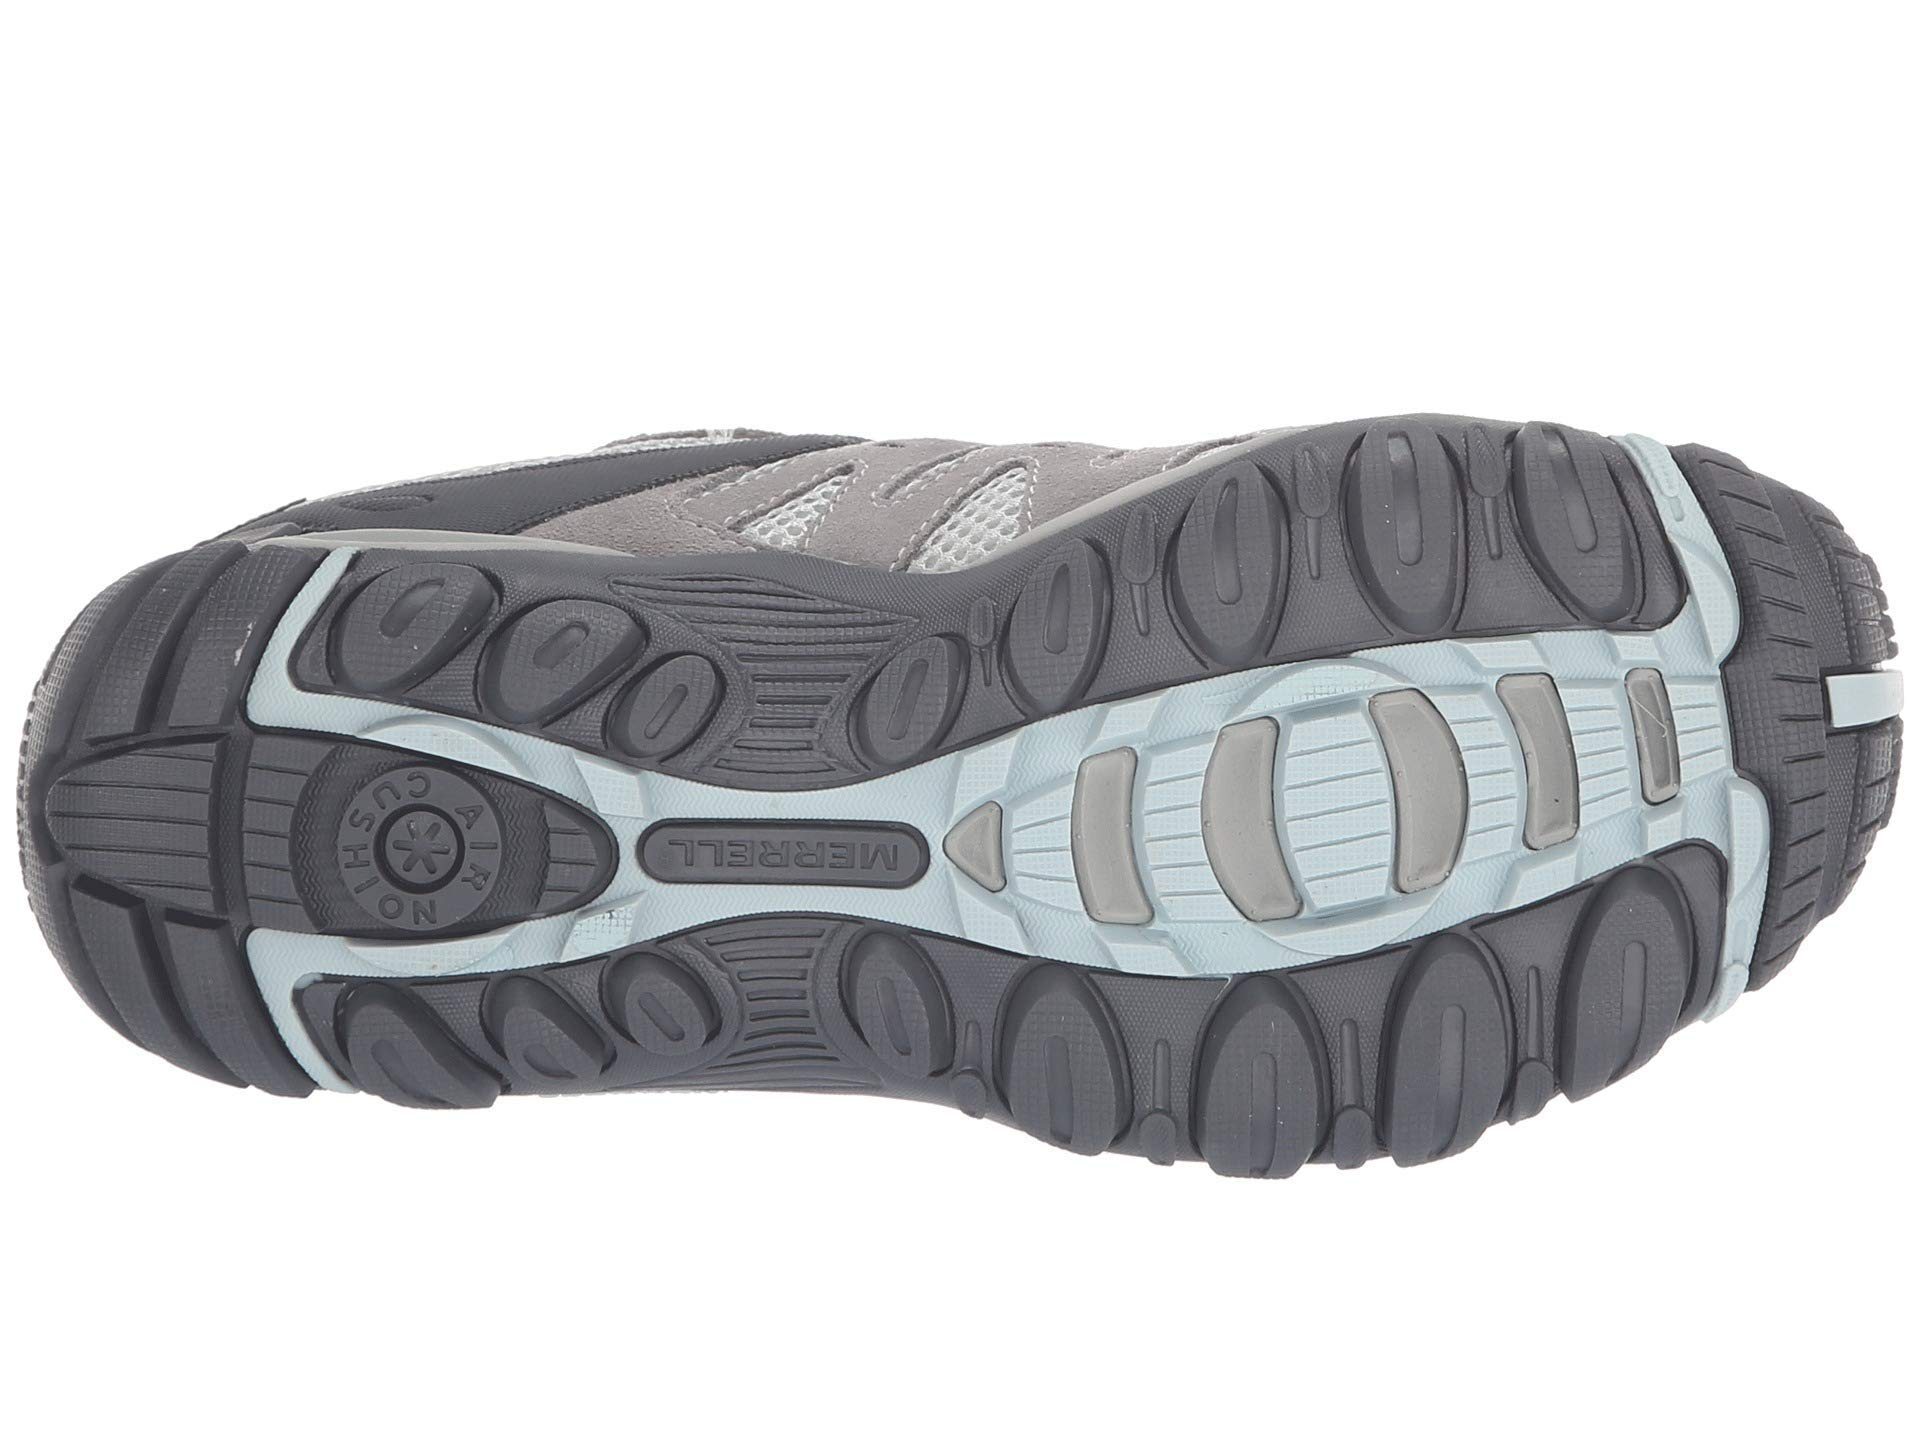circle: (1181, 641, 1528, 1021), (240, 676, 593, 1016)
line: (1181, 641, 1528, 1021), (240, 676, 593, 1016), (887, 740, 1061, 973)
quad: (1181, 641, 1528, 1021), (639, 787, 940, 956), (887, 740, 1061, 973)
star: (240, 676, 593, 1016)
text: (240, 676, 593, 1016), (639, 787, 940, 956)
triangle: (887, 740, 1061, 973)
